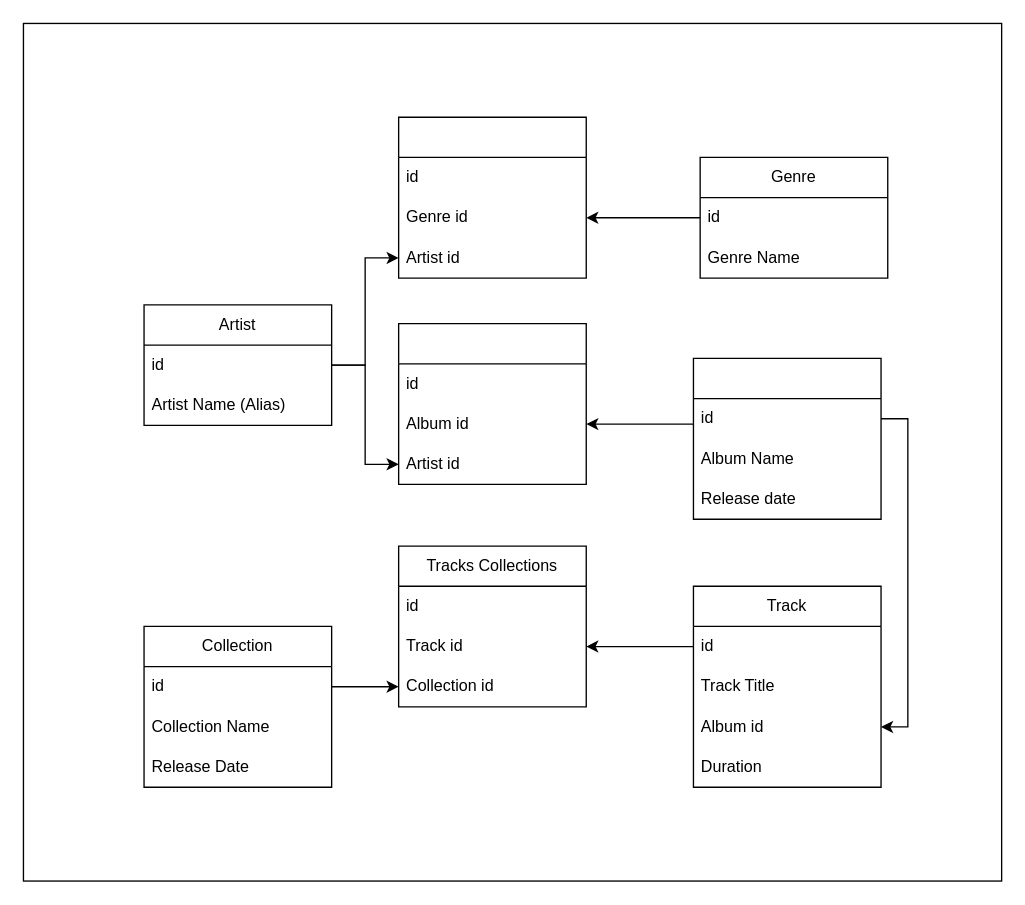
Image size: 1025x905. Some labels were removed from this diagram. Each missing label, with the box of its shape:
Albums: (692, 357, 881, 519)
Artists Albums: (397, 322, 586, 484)
Artists Genres: (397, 116, 586, 278)
